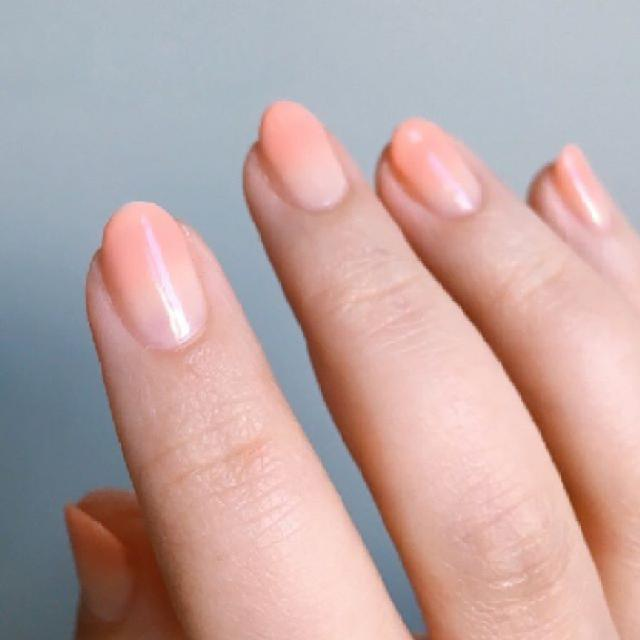Nail: (100, 204, 206, 350), (260, 102, 350, 211), (389, 119, 481, 219), (66, 506, 132, 622), (554, 145, 615, 230)
